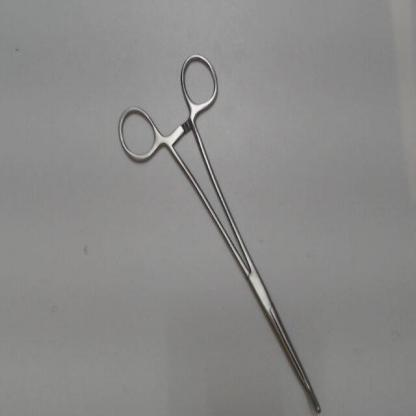Lahey Forceps: (113, 41, 330, 413)
